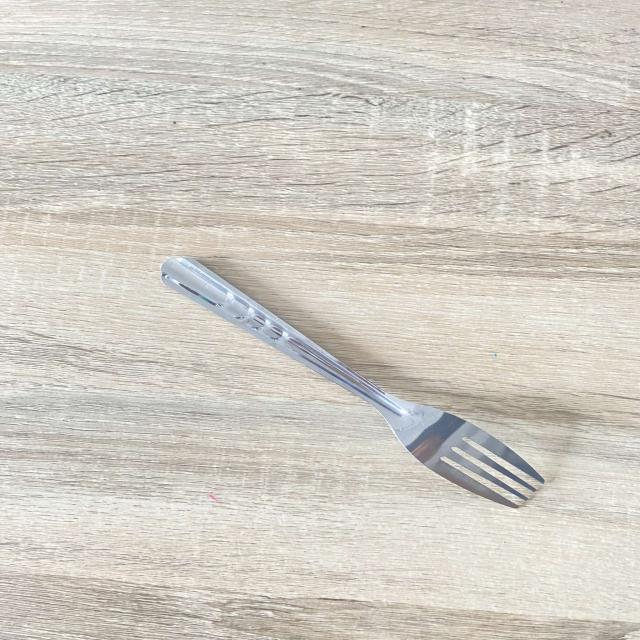fork: (154, 246, 557, 514)
